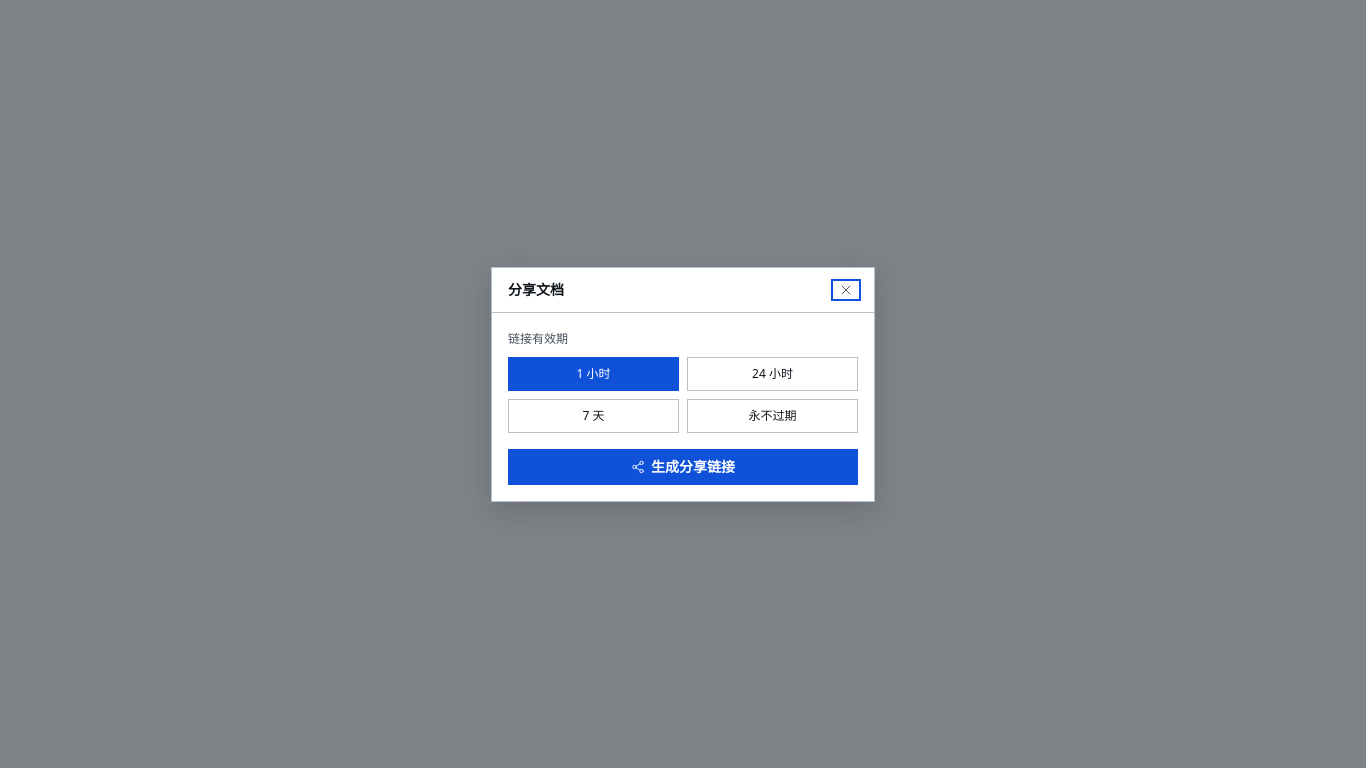
Test: ShareModal › reports an explicit error when the response URL has no share token
What coordinates should you click on to do the following:
click the button with test id "share-create-btn"
I would click on:
 (683, 466)
Its box is [508,448,858,484].
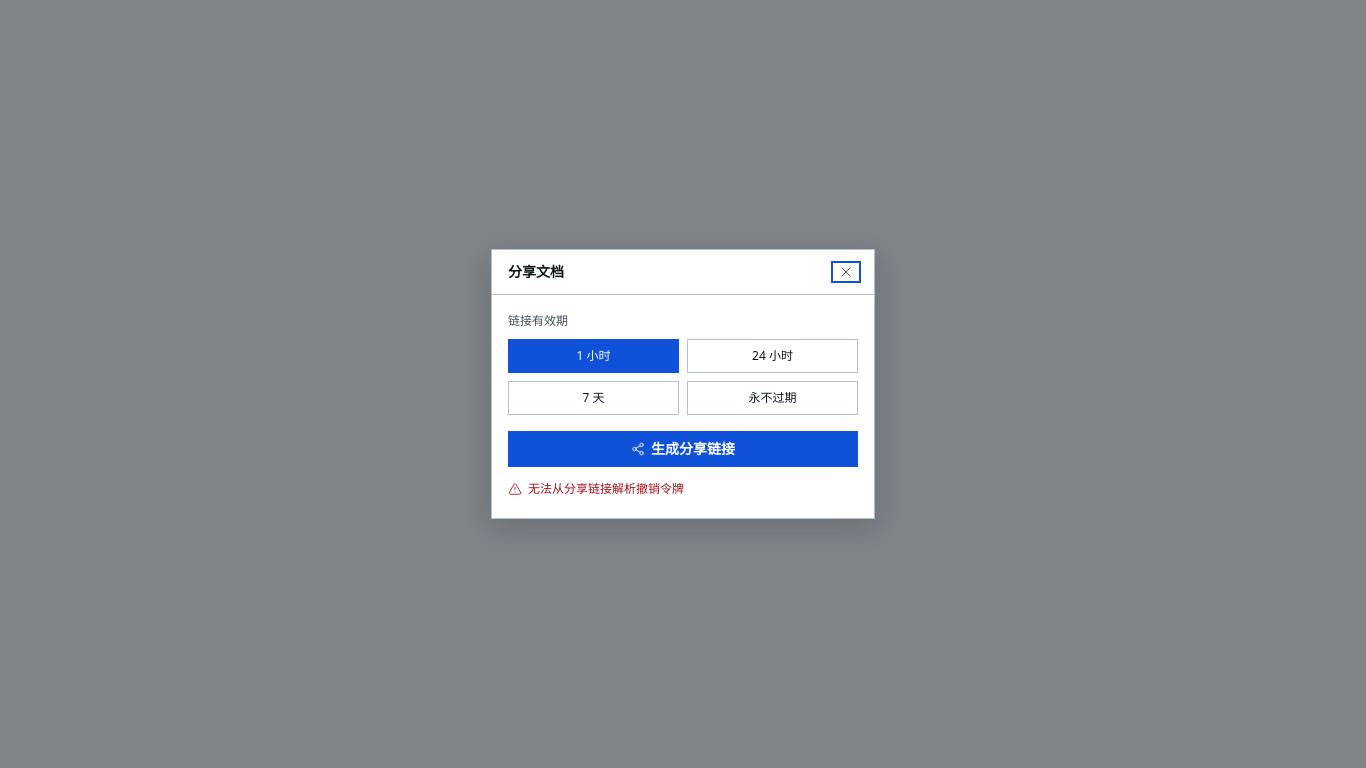
expect the message reads "无法从分享链接解析撤销令牌": met, box [528,480,684,497]
